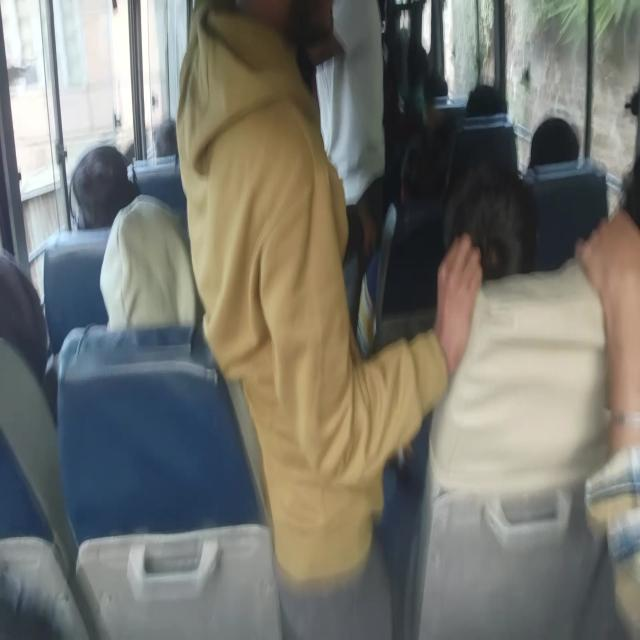person: (175, 0, 483, 638), (428, 156, 612, 497), (99, 192, 197, 332), (68, 144, 141, 230)
